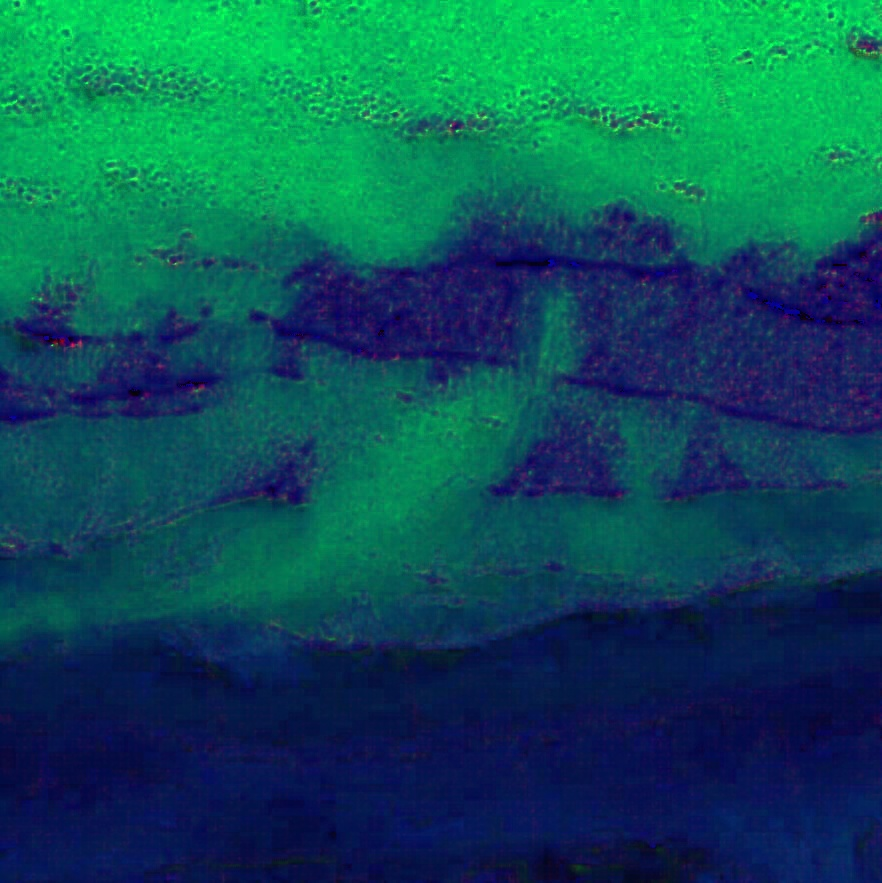rip_current: (212, 207, 573, 607)
